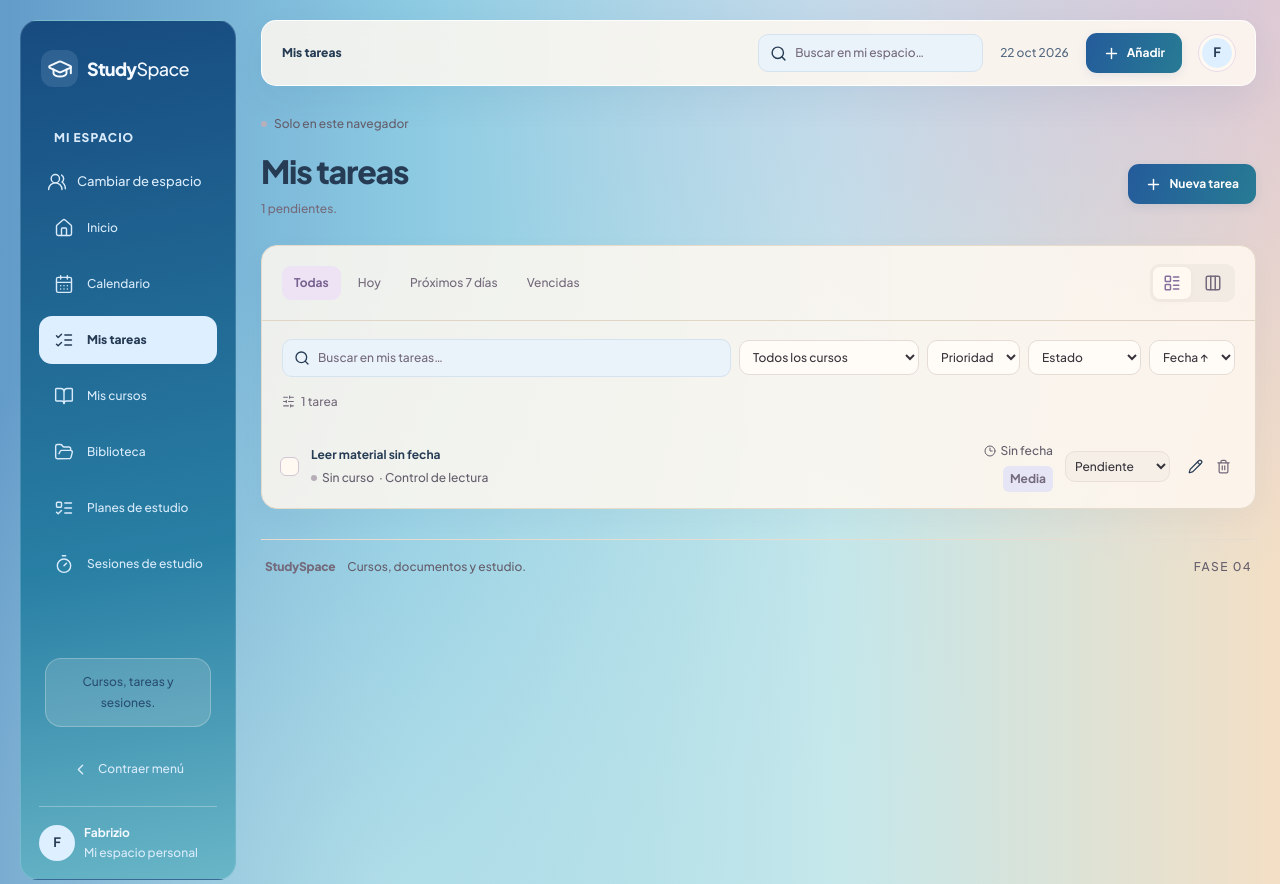
Test: Biblioteca y personalización › muestra tareas sin fecha sin marcarlas como vencidas y permite consultar el dashboard
expect the button "Leer material sin fecha" is shown: met, box [311,446,440,464]
expect the text "Sin fecha" is shown: met, box [984,442,1053,460]
Click the button "Vencidas".
click(553, 283)  # box [515,266,592,300]
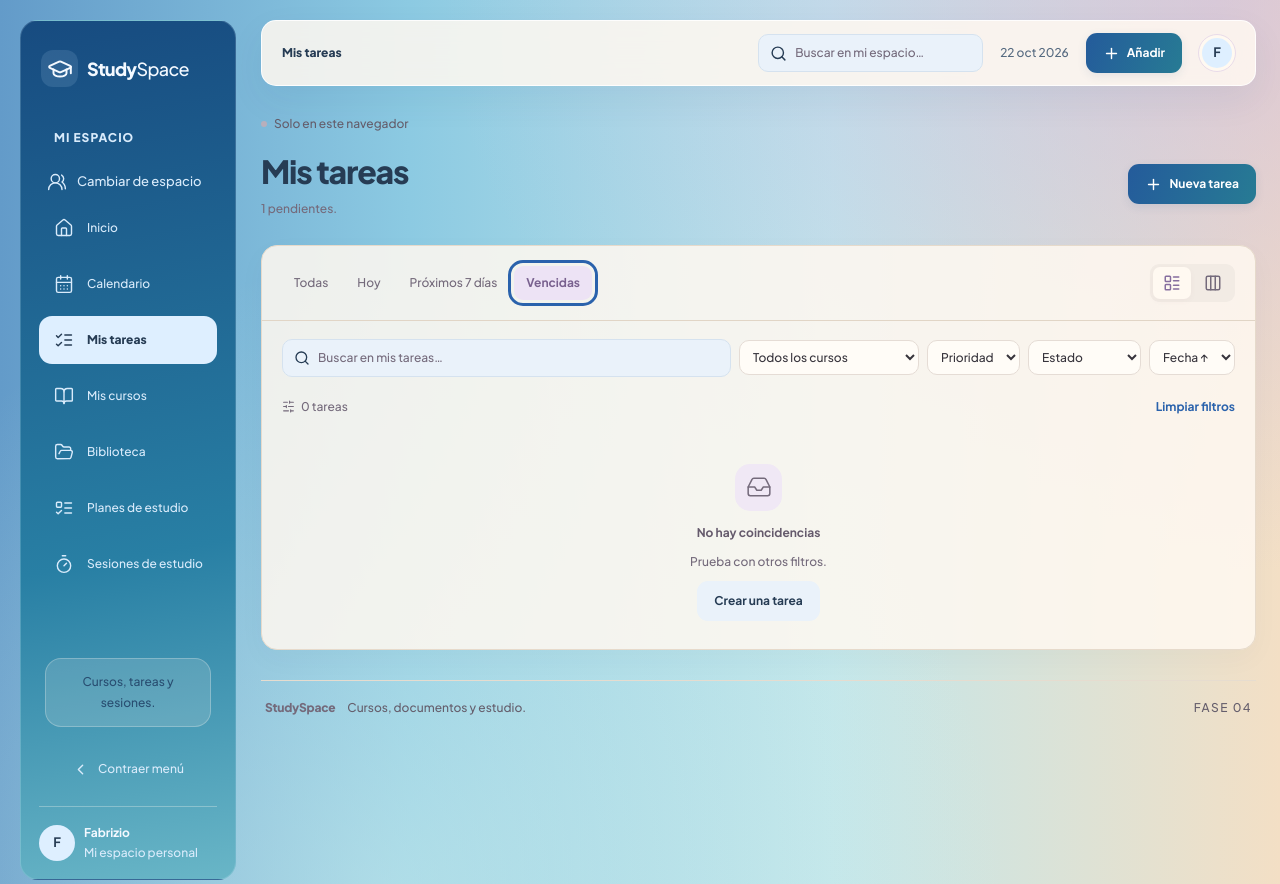
expect the button "Leer material sin fecha" is gone: met
Click the link "Inicio".
click(86, 228)  # box [54,218,118,238]
(page scrolled)
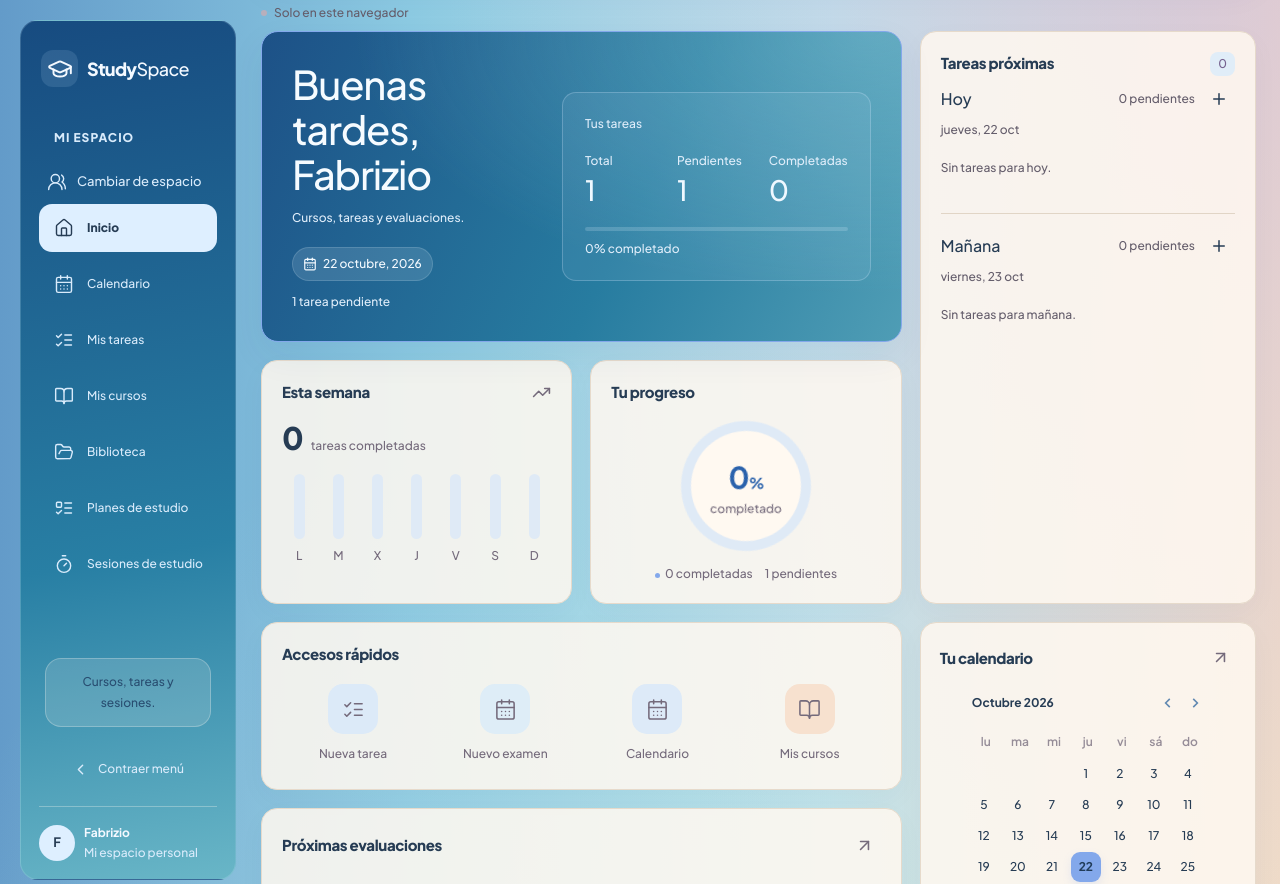
expect the text "Cursos, tareas y evaluaciones." is shown: met, box [292,210,464,225]
